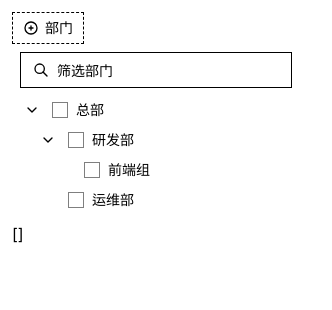
DataTableTreeFilter › writes cascaded tree selections back to the table column
Click the list item with aria-label "研发部，未选中".
click(85, 140)  # box [36, 128, 134, 152]
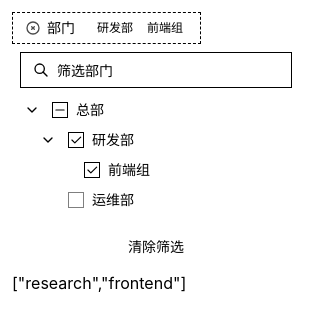
Expected: the text named "当前部门筛选值" reads "[\"research\",\"frontend\"]", [12, 273, 186, 293]
